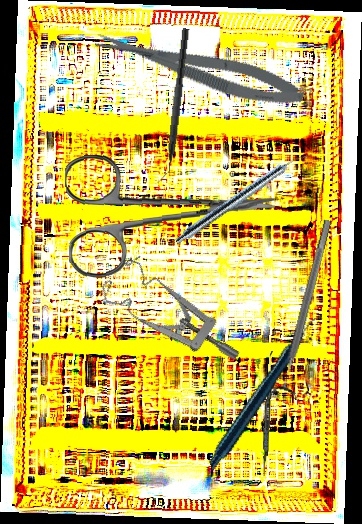Chopper: (155, 26, 190, 186)
Fixation Ring: (269, 216, 343, 401)
Handpiece: (176, 315, 358, 471), (173, 147, 309, 249)
Iris Scissors: (63, 145, 279, 280)
Micro Scissor: (92, 18, 308, 117)
Spatula Surgical: (261, 350, 274, 477)
Speculum: (93, 237, 242, 401)
